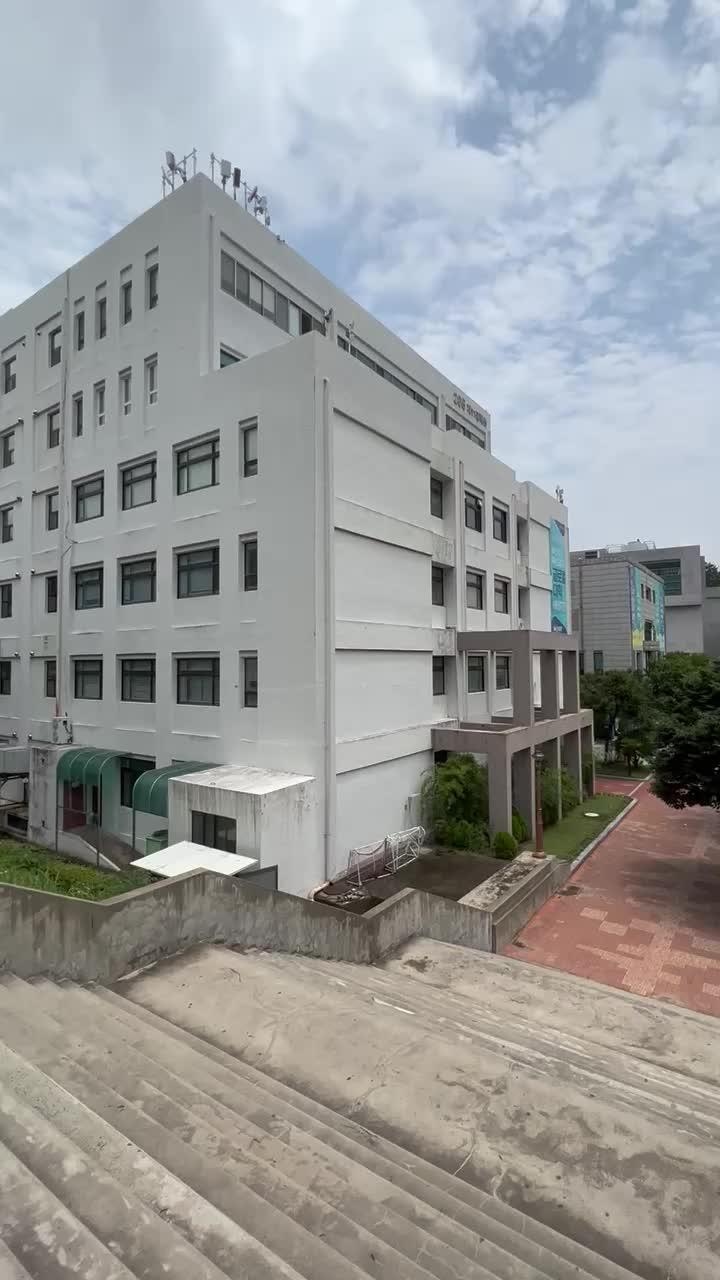building: (16, 180, 590, 850)
